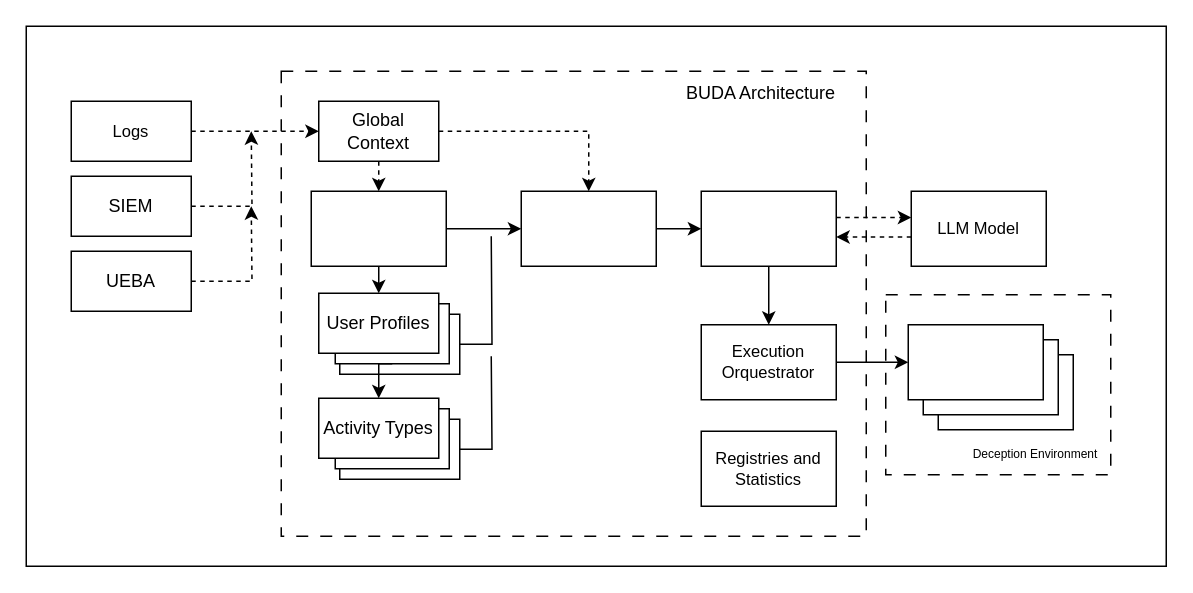
Image size: 1193x593. Some labels were removed from this diagram. Here are the shapes that lost their labels. From the top down, the centre of each, then its label:
At point 378,228: "Narratives".
At point 588,228: "Behavior engine".
At point 768,228: "Command Generator".
At point 975,361: "Execution Nodes".
